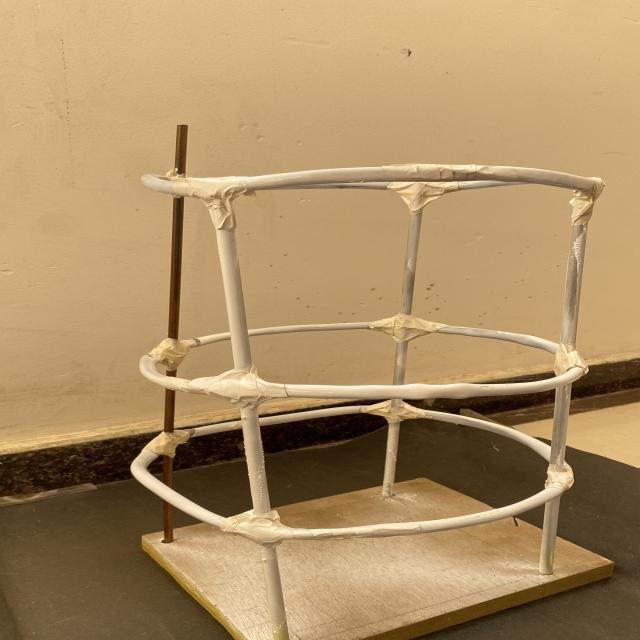silo: (107, 125, 616, 640)
